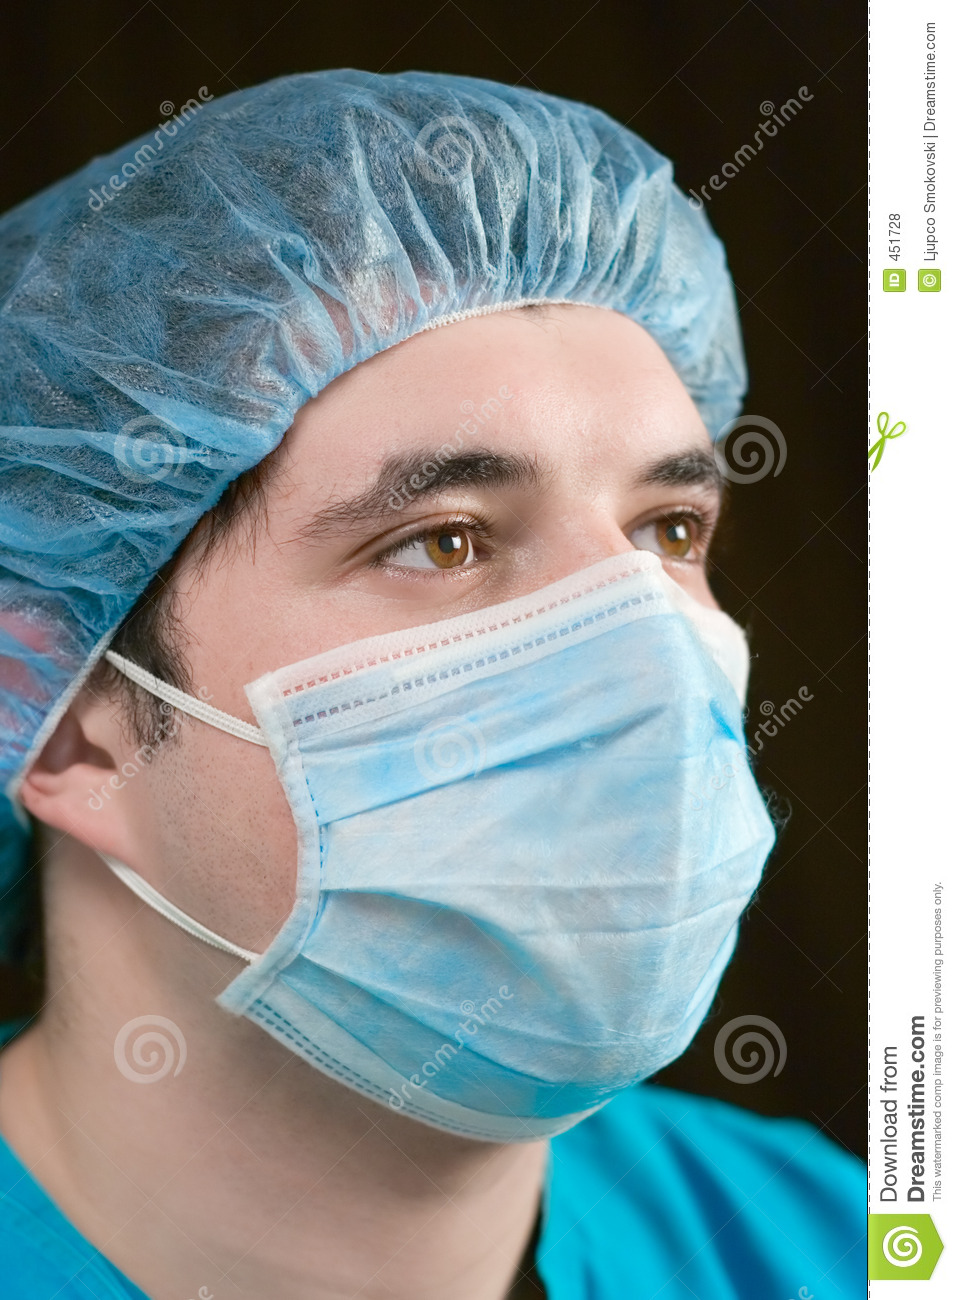mask: (224, 625, 790, 1121)
